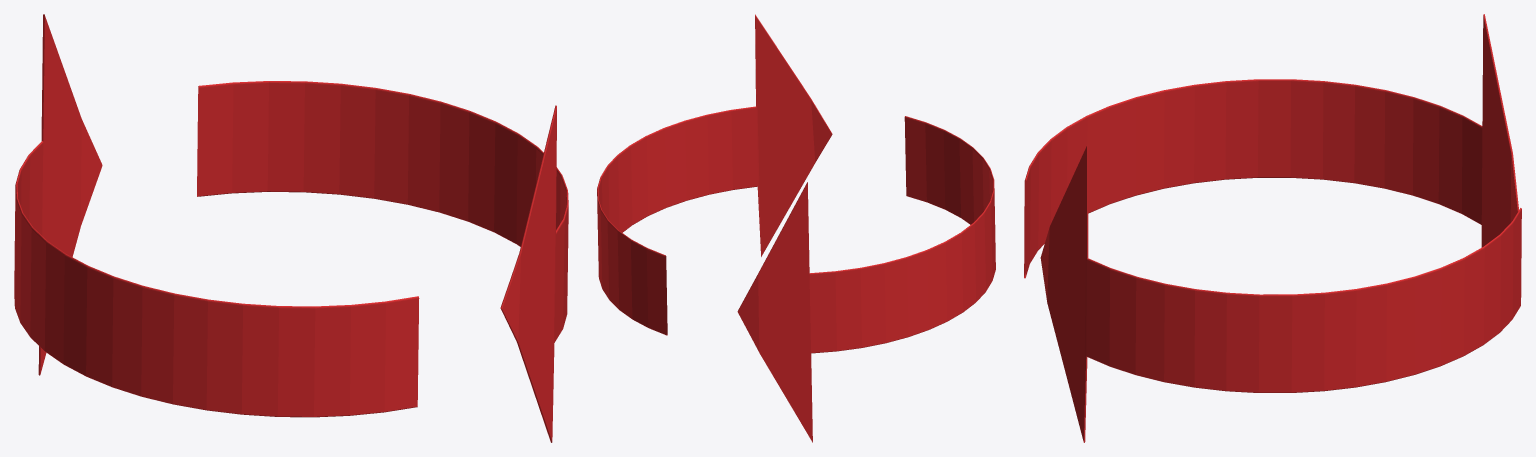
The model's file is RotateArrow.glb.
3 views of the same model, side by side, from view 1: azimuth 30°, elevation 25°; view 2: azimuth 150°, elevation 25°; view 3: azimuth 270°, elevation 25° (orthographic). The views are drawn at different scales.
Parts seen in each view (by area): view 1: CircleArrow; view 2: CircleArrow; view 3: CircleArrow.
Part boxes in pixels (<box>): CircleArrow: <box>14,14,568,442</box>; CircleArrow: <box>597,14,995,442</box>; CircleArrow: <box>1024,14,1521,442</box>.
Size of the model in its own units: 2.96 by 2.14 by 2.97.
